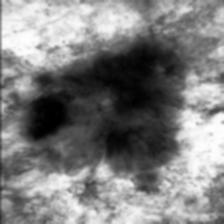Potentially Malignant Skin Tumors: (24, 94, 70, 140)
